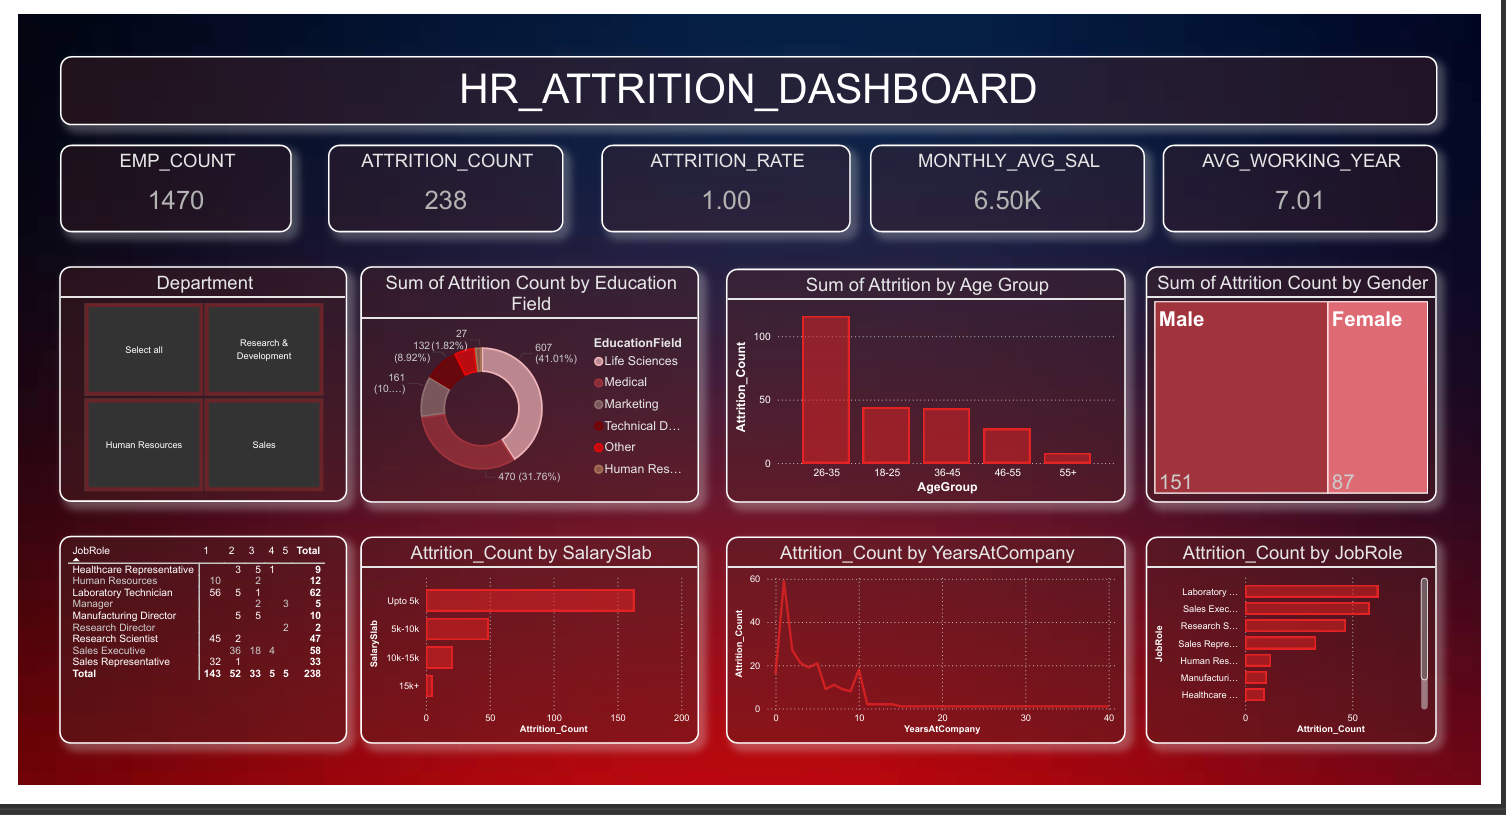

The dashboard page shown, as its layout file describes it:
{"tool":"powerbi","page":{"name":"HR_Attrition_Dashboard","canvas":[1900,1000],"ordinal":0},"visuals":[{"type":"textbox","box":[53.9,53.9,1789.1,89.9],"z":0},{"type":"card","title":"EMP_COUNT","fields":{"Values":["Count(HR_Analytic.EmpID)"]},"box":[53.9,168.6,301.2,114.6],"z":1000},{"type":"card","title":"ATTRITION_COUNT","fields":{"Values":["HR_Analytic.Attrition_Count"]},"box":[402.3,168.6,305.7,114.6],"z":2000},{"type":"card","title":"ATTRITION_RATE","fields":{"Values":["HR_Analytic.Attrition_rate"]},"box":[757.5,168.6,323.7,114.6],"z":3000},{"type":"card","title":"MONTHLY_AVG_SAL","fields":{"Values":["Avg(HR_Analytic.MonthlyIncome)"]},"box":[1105.8,168.6,357.4,114.6],"z":4000},{"type":"card","title":"AVG_WORKING_YEAR","fields":{"Values":["Avg(HR_Analytic.YearsAtCompany)"]},"box":[1485.7,168.6,357.4,114.6],"z":5000},{"type":"treemap","title":"Sum of Attrition Count by Gender","fields":{"Group":["HR_Analytic.Gender"],"Values":["CountNonNull(HR_Analytic.Attrition)"]},"box":[1463.6,327.3,378.8,306.3],"z":6000},{"type":"donutChart","title":"Sum of Attrition Count by Education Field","fields":{"Category":["HR_Analytic.EducationField"],"Y":["CountNonNull(HR_Analytic.Attrition)"]},"box":[444.2,327.3,439.5,306.3],"z":7000},{"type":"columnChart","title":"Sum of Attrition by Age Group","fields":{"Category":["HR_Analytic.AgeGroup"],"Y":["HR_Analytic.Attrition_Count"]},"box":[918.8,329.7,519,303.9],"z":8000},{"type":"pivotTable","fields":{"Columns":["HR_Analytic.JobLevel"],"Rows":["HR_Analytic.JobRole"],"Values":["HR_Analytic.Attrition_Count"]},"box":[53.3,676.7,373.3,270],"z":9000},{"type":"slicer","title":"Department","fields":{"Values":["HR_Analytic.Department"]},"box":[53.3,326.7,373.3,306.7],"z":10000},{"type":"barChart","fields":{"Category":["HR_Analytic.SalarySlab"],"Y":["HR_Analytic.Attrition_Count"]},"box":[444.2,678,439.5,268.9],"z":11000},{"type":"lineChart","fields":{"Category":["HR_Analytic.YearsAtCompany"],"Y":["HR_Analytic.Attrition_Count"]},"box":[918.8,678,519,268.9],"z":12000},{"type":"barChart","fields":{"Category":["HR_Analytic.JobRole"],"Y":["HR_Analytic.Attrition_Count"]},"box":[1463.6,678,378.8,268.9],"z":13000}]}

Visuals, with their boxes in screenshot pixels (x1, y1, x2, y2), scaled from the page's 1900x1000 canvas onto the 1506x815 screenshot:
textbox: <bbox>43, 44, 1461, 117</bbox>
"EMP_COUNT" card: <bbox>43, 137, 281, 231</bbox>
"ATTRITION_COUNT" card: <bbox>319, 137, 561, 231</bbox>
"ATTRITION_RATE" card: <bbox>600, 137, 857, 231</bbox>
"MONTHLY_AVG_SAL" card: <bbox>876, 137, 1160, 231</bbox>
"AVG_WORKING_YEAR" card: <bbox>1178, 137, 1461, 231</bbox>
"Sum of Attrition Count by Gender" treemap: <bbox>1160, 267, 1460, 516</bbox>
"Sum of Attrition Count by Education Field" donutChart: <bbox>352, 267, 700, 516</bbox>
"Sum of Attrition by Age Group" columnChart: <bbox>728, 269, 1140, 516</bbox>
pivotTable - HR_Analytic.JobLevel x HR_Analytic.JobRole: <bbox>42, 552, 338, 772</bbox>
"Department" slicer: <bbox>42, 266, 338, 516</bbox>
barChart - HR_Analytic.SalarySlab x HR_Analytic.Attrition_Count: <bbox>352, 553, 700, 772</bbox>
lineChart - HR_Analytic.YearsAtCompany x HR_Analytic.Attrition_Count: <bbox>728, 553, 1140, 772</bbox>
barChart - HR_Analytic.JobRole x HR_Analytic.Attrition_Count: <bbox>1160, 553, 1460, 772</bbox>
